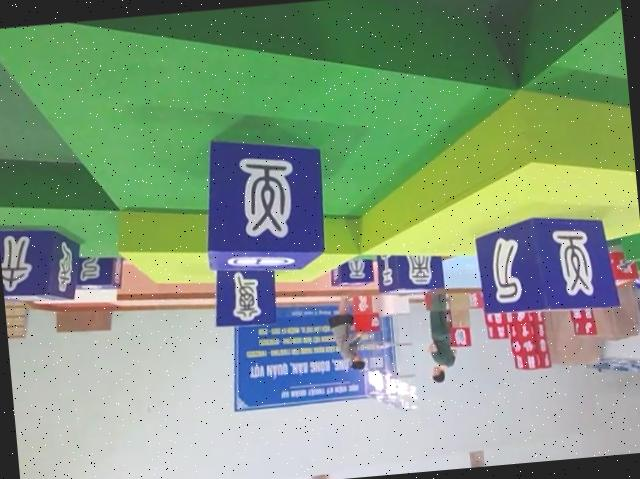R2 Fake Blue: (198, 128, 331, 276), (471, 205, 615, 314), (0, 216, 85, 303), (209, 264, 278, 330), (377, 246, 445, 294), (69, 254, 123, 293), (329, 255, 375, 287)
